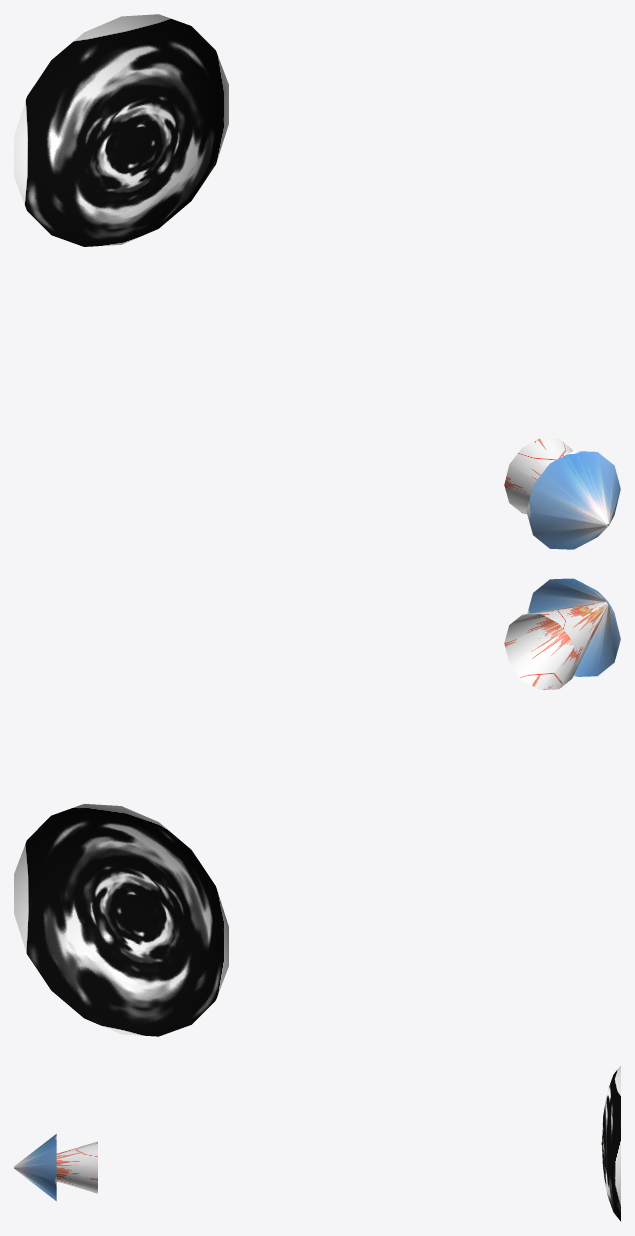
File: Eff_Overwhelm_Action02.FBX
The picture shows the model from 3 angles, top to bottom: view 1: azimuth 30°, elevation 25°; view 2: azimuth 150°, elevation 25°; view 3: azimuth 270°, elevation 25°; orthographic projection. The views are drawn at different scales.
Visible parts, largest first — view 1: Eff_Shieldcharge001, Hit_Cylinder005, Hit_Cylinder007; view 2: Eff_Shieldcharge001, Hit_Cylinder007, Hit_Cylinder005; view 3: Eff_Shieldcharge001, Hit_Cylinder007, Hit_Cylinder005.
Boxes of the visible parts, x1,y1,x2,y2 form: Eff_Shieldcharge001: (14,14,228,246); Hit_Cylinder005: (526,451,620,549); Hit_Cylinder007: (504,438,608,526); Eff_Shieldcharge001: (14,804,228,1036); Hit_Cylinder007: (504,601,608,689); Hit_Cylinder005: (527,578,620,676); Eff_Shieldcharge001: (601,1065,620,1221); Hit_Cylinder007: (56,1141,97,1193); Hit_Cylinder005: (14,1134,56,1201).
Bounding box in the file's own units: 0.0209 × 0.0212 × 0.0819.
